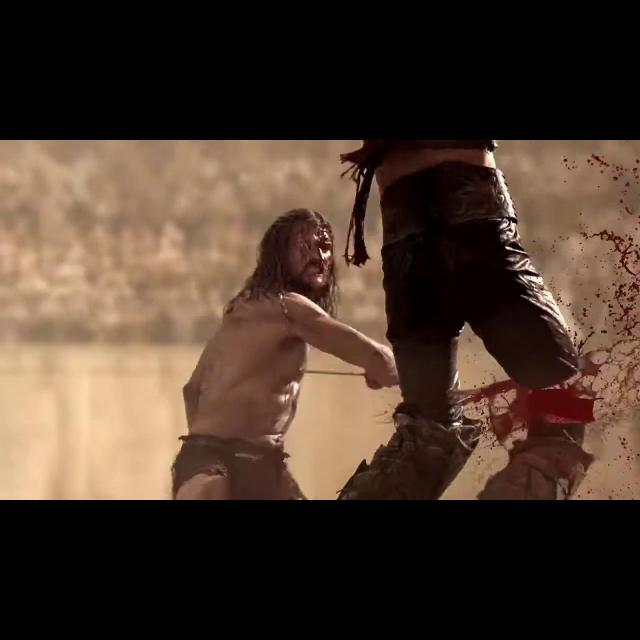blood: (464, 154, 640, 499), (291, 224, 332, 288)
